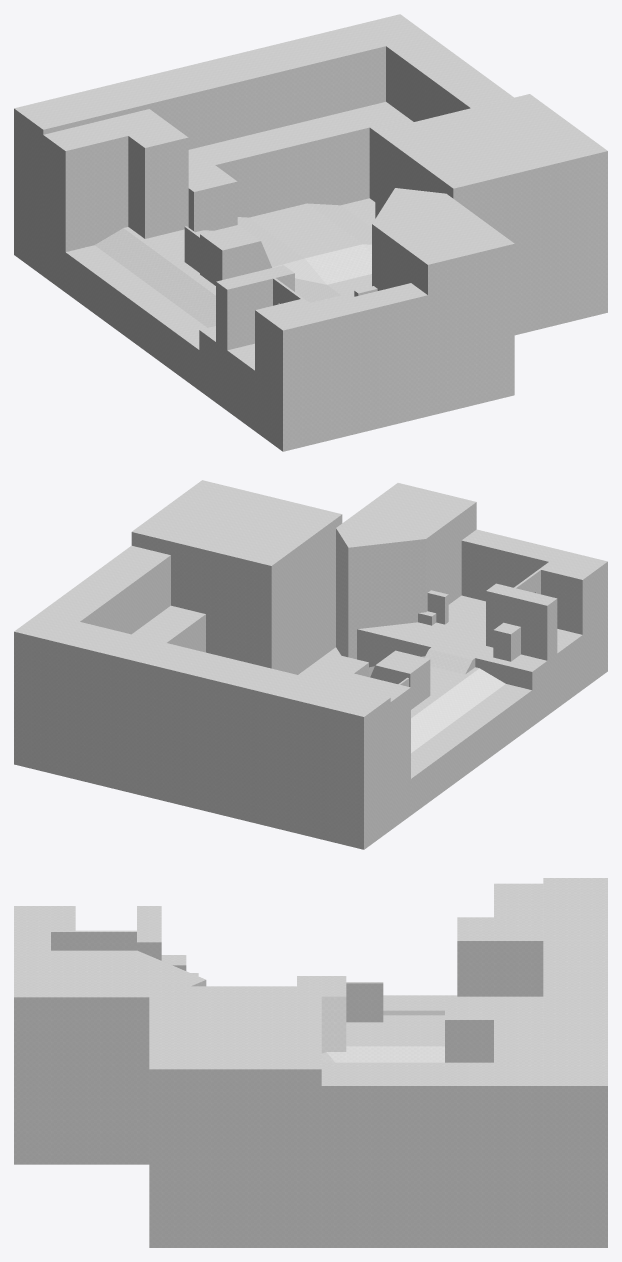
The picture shows the model from 3 angles, top to bottom: view 1: azimuth 30°, elevation 25°; view 2: azimuth 150°, elevation 25°; view 3: azimuth 270°, elevation 25°; orthographic projection. The views are drawn at different scales.
Parts seen in each view (by area): view 1: Floor Mesh (1), Grass Mesh (1); view 2: Floor Mesh (1), Grass Mesh (1); view 3: Floor Mesh (1), Grass Mesh (1).
Part boxes in pixels (left/top/right/bottom): Floor Mesh (1): left=14, top=14, right=607, bottom=451; Grass Mesh (1): left=66, top=102, right=413, bottom=349; Floor Mesh (1): left=14, top=480, right=607, bottom=849; Grass Mesh (1): left=132, top=605, right=531, bottom=778; Floor Mesh (1): left=14, top=878, right=607, bottom=1247; Grass Mesh (1): left=321, top=995, right=543, bottom=1062.
Bounding box in the file's own units: 40 × 16 × 48.25.
